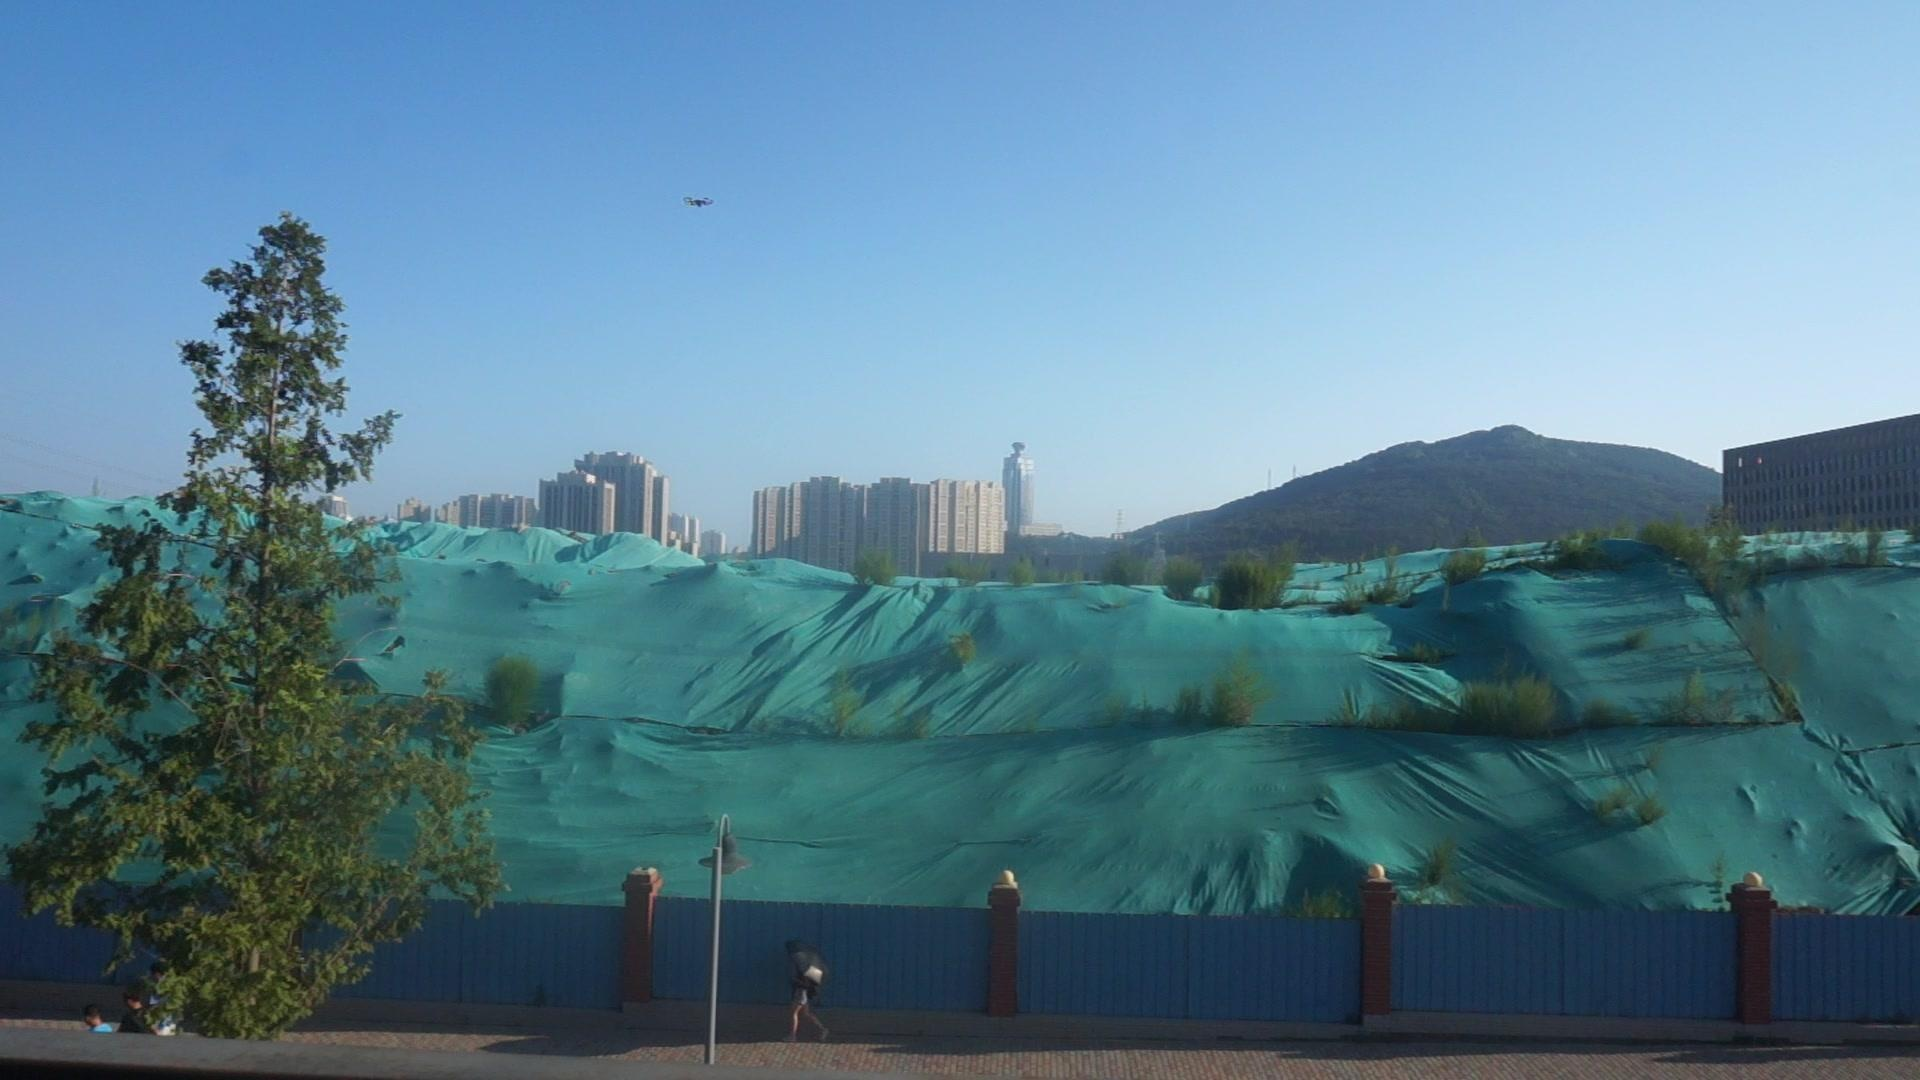UAV: (682, 196, 715, 208)
